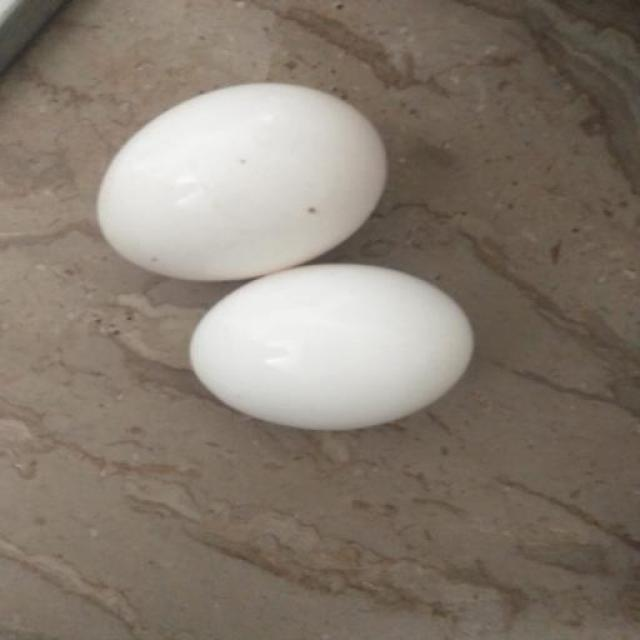telur: (99, 84, 387, 278), (193, 263, 474, 429)
